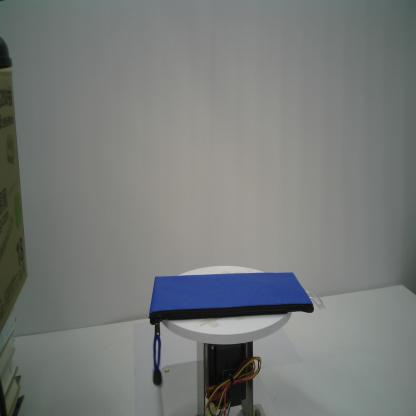Stationery: (147, 270, 326, 389)
